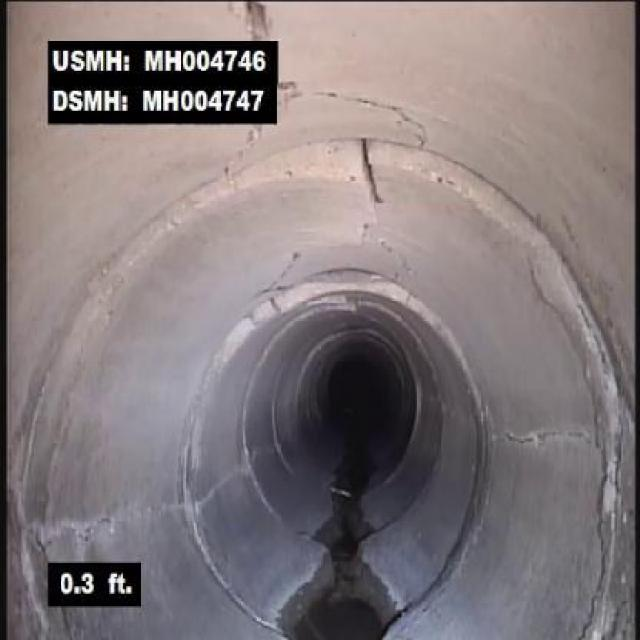Buckling: (344, 169, 394, 251)
Crack: (17, 496, 177, 556), (283, 78, 428, 137), (489, 412, 600, 477), (263, 251, 299, 291)
Hole: (228, 1, 282, 38)
Joint offset: (398, 143, 557, 260), (103, 165, 252, 268), (254, 137, 341, 189)
